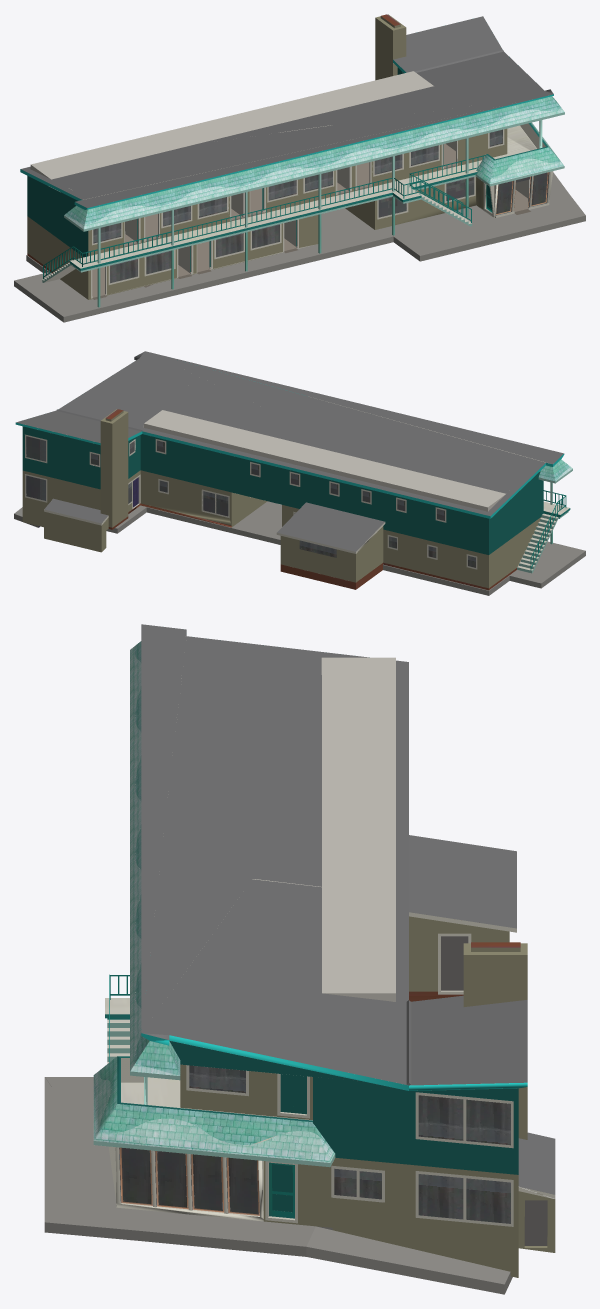
Rendered from roadside-motel.zfix-v14.lod0.glb.
3 renders of one model, top to bottom at view 1: azimuth 30°, elevation 25°; view 2: azimuth 150°, elevation 25°; view 3: azimuth 270°, elevation 25°, orthographic. The views are drawn at different scales.
Visible parts, largest first — view 1: Object_6, Object_5, Object_11, Object_10, Object_8, Object_4; view 2: Object_6, Object_4, Object_5, Object_8, Object_11, Object_10; view 3: Object_6, Object_8, Object_11, Object_5, Object_10, Object_4.
Part boxes in pixels (x1,y1,x2,y2): Object_6: [14, 14, 585, 322]; Object_5: [42, 123, 553, 298]; Object_11: [42, 105, 564, 282]; Object_10: [64, 96, 560, 307]; Object_8: [93, 129, 549, 283]; Object_4: [20, 14, 553, 279]; Object_6: [14, 351, 585, 595]; Object_4: [15, 409, 570, 590]; Object_5: [25, 402, 569, 570]; Object_8: [26, 357, 475, 567]; Object_11: [517, 466, 572, 573]; Object_10: [539, 459, 569, 544]; Object_6: [44, 624, 555, 1294]; Object_8: [119, 1065, 510, 1223]; Object_11: [93, 646, 335, 1167]; Object_5: [105, 678, 555, 1226]; Object_10: [99, 641, 334, 1152]; Object_4: [105, 942, 527, 1218].
Size of the model in its own units: 37.03 by 9.34 by 17.02.
6 materials, 5 textured.
